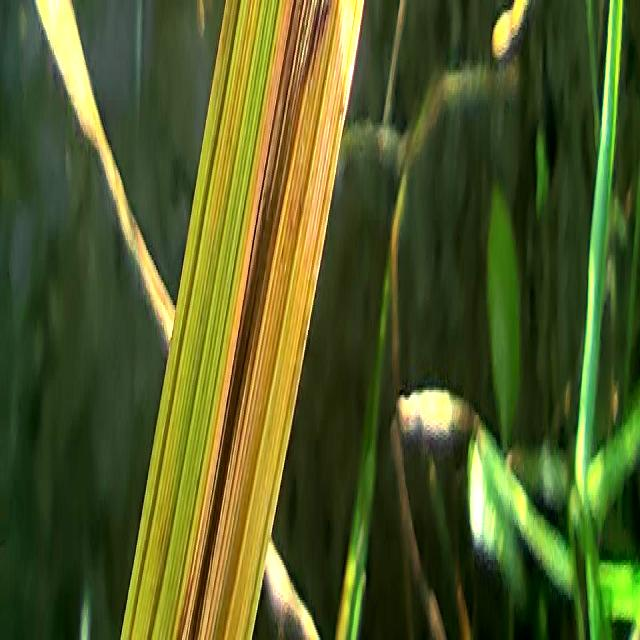LEAF BLAST: (188, 0, 332, 638)
